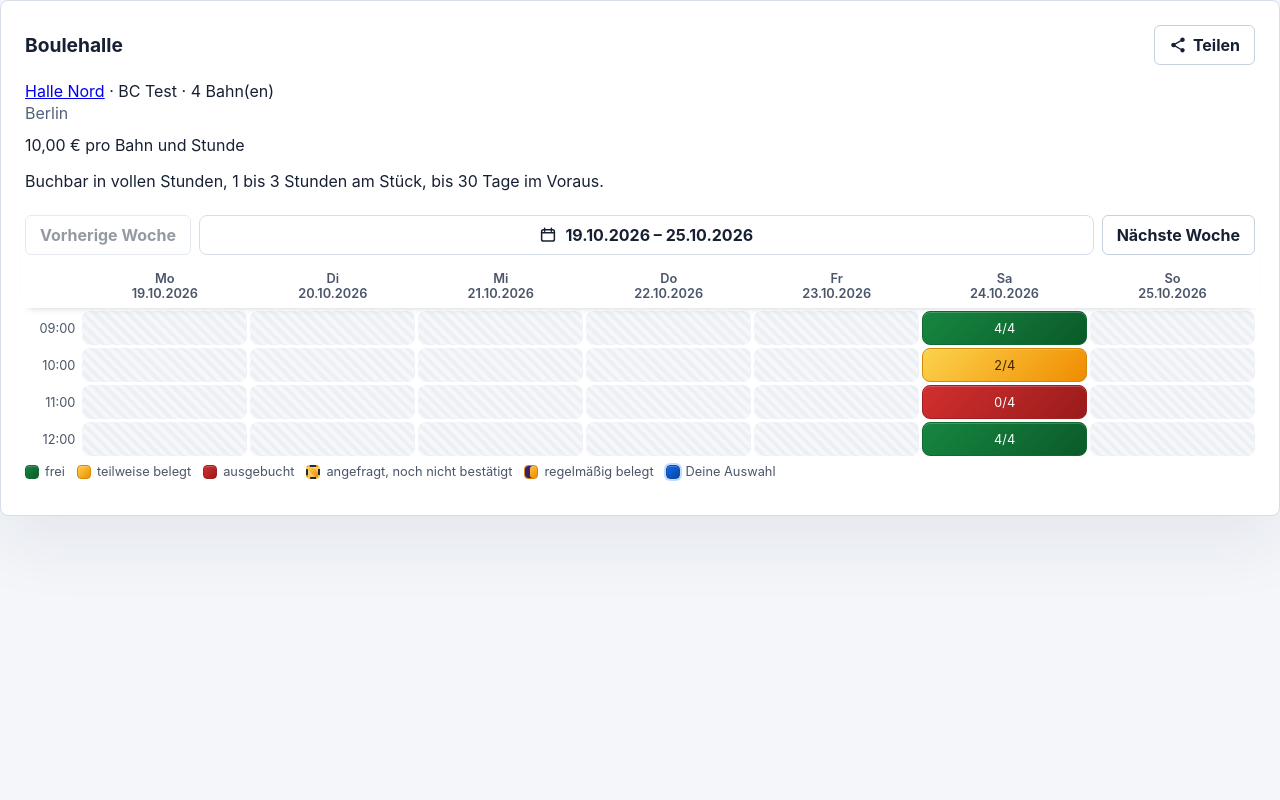
Scenario: Mietangebote teilen › meldet Fehler beim Kopieren
Click the button "Teilen": click(1204, 45) [1154, 25, 1255, 65]
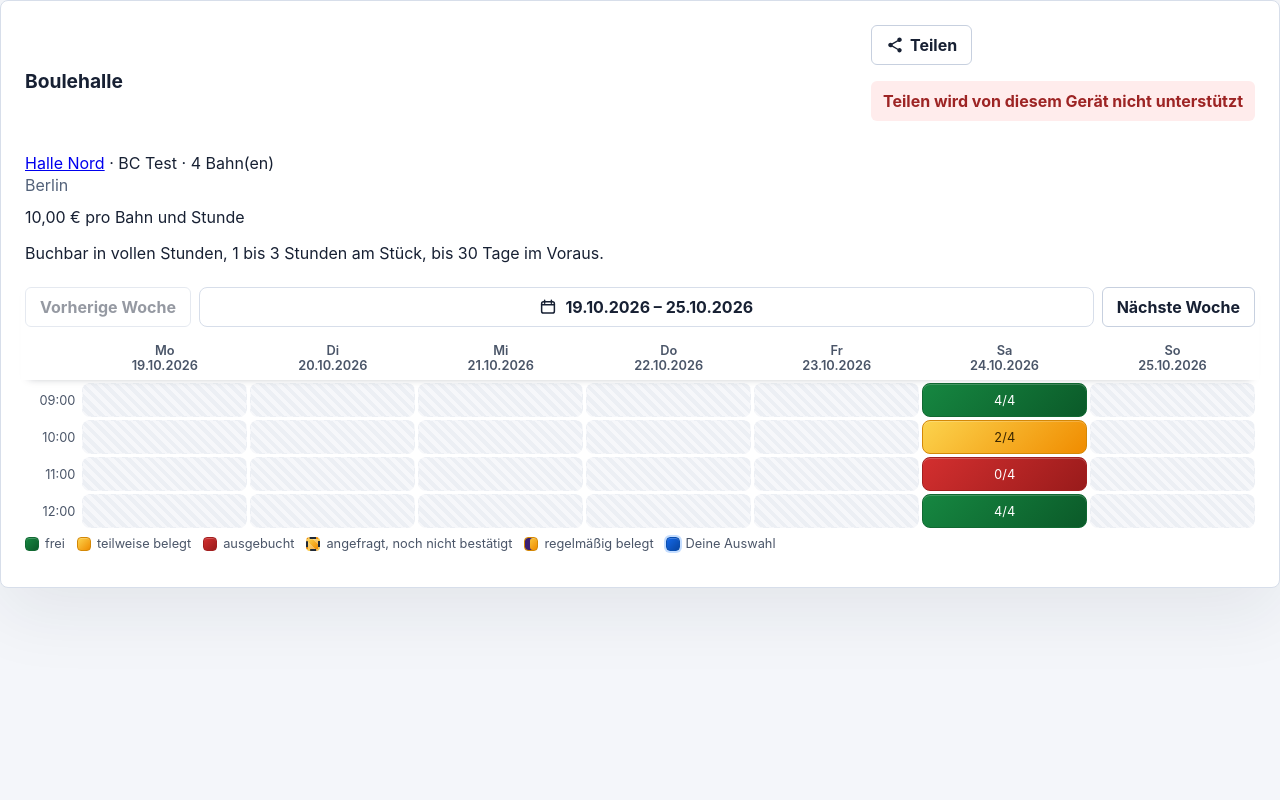
Check: the text "Teilen wird von diesem Gerät nicht unterstützt" is shown, box [871, 81, 1255, 121]
